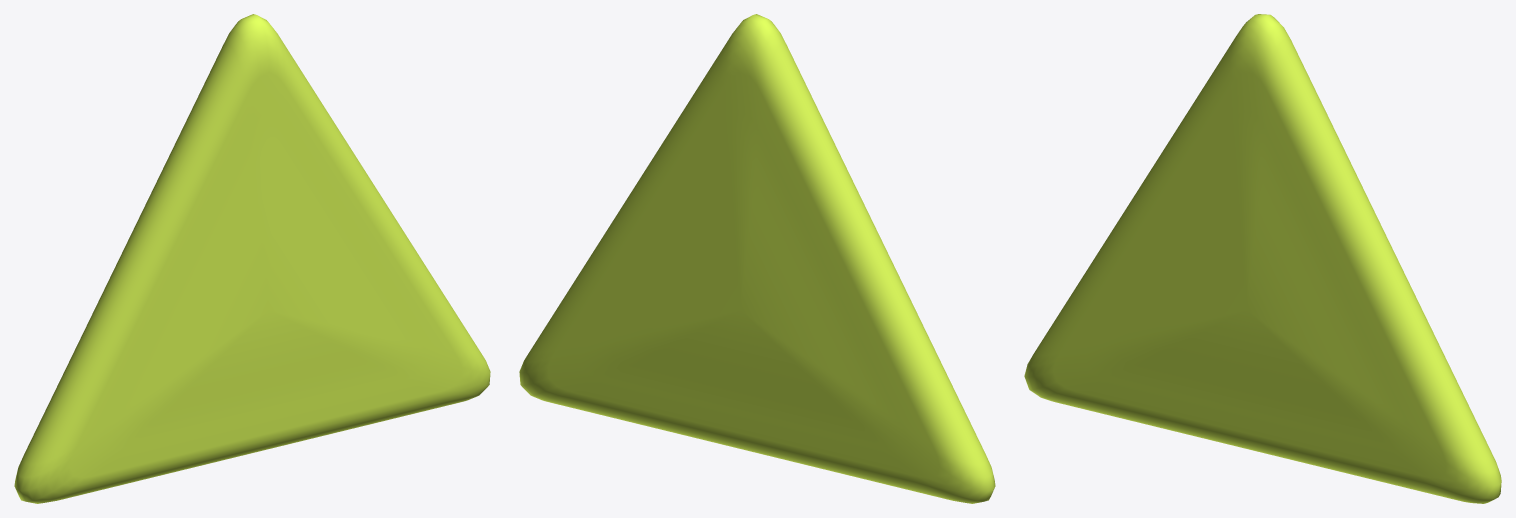
The model's file is glass-lime-triangle.glb.
3 views of the same model, side by side, from view 1: azimuth 30°, elevation 25°; view 2: azimuth 150°, elevation 25°; view 3: azimuth 330°, elevation 25° (orthographic).
Parts seen in each view (by area): view 1: floating-glass-lime-triangle; view 2: floating-glass-lime-triangle; view 3: floating-glass-lime-triangle.
Boxes of the visible parts, box(x1,y1,x2,y2) form: floating-glass-lime-triangle: box(14, 14, 490, 503); floating-glass-lime-triangle: box(519, 14, 995, 503); floating-glass-lime-triangle: box(1024, 14, 1501, 503).
Size of the model in its own units: 0.9136 by 0.8031 by 0.108.
